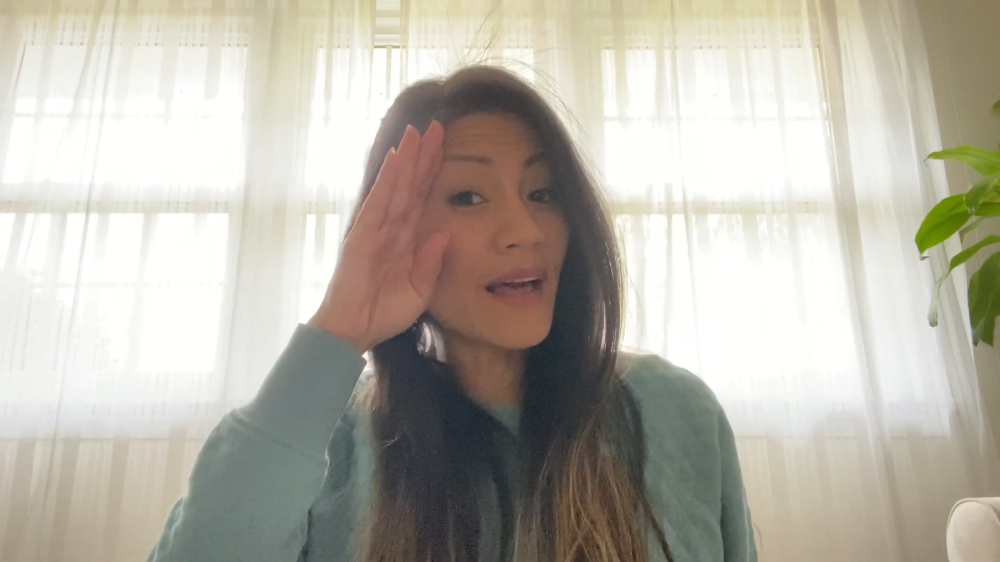hello: (339, 120, 444, 342)
